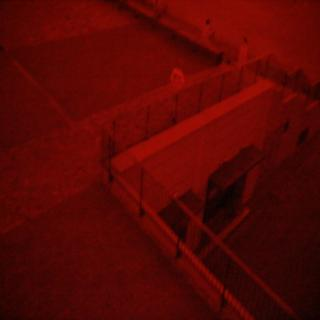person: (162, 51, 191, 116), (234, 30, 253, 80)
